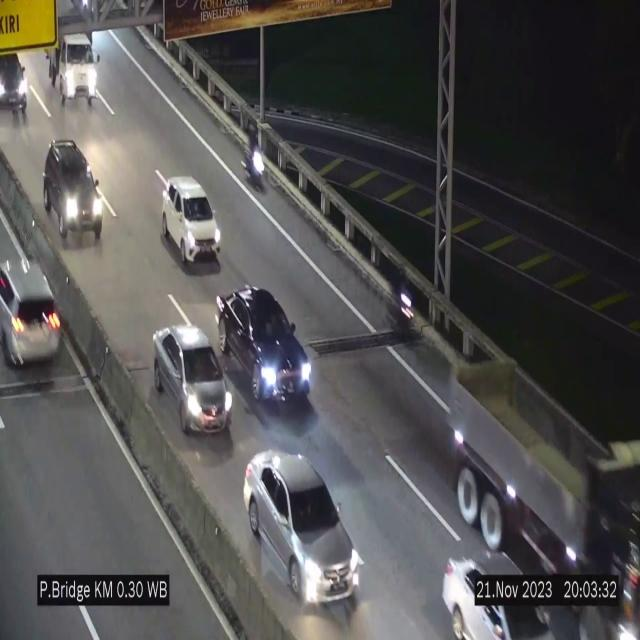Car: (244, 449, 360, 615), (218, 287, 312, 417), (434, 545, 554, 640), (0, 238, 74, 369), (153, 326, 234, 436), (38, 137, 104, 245), (162, 176, 221, 268), (0, 34, 38, 132)
Motorcycle: (244, 121, 266, 195), (394, 268, 416, 327)
Truck: (442, 335, 640, 640), (44, 10, 106, 117)
